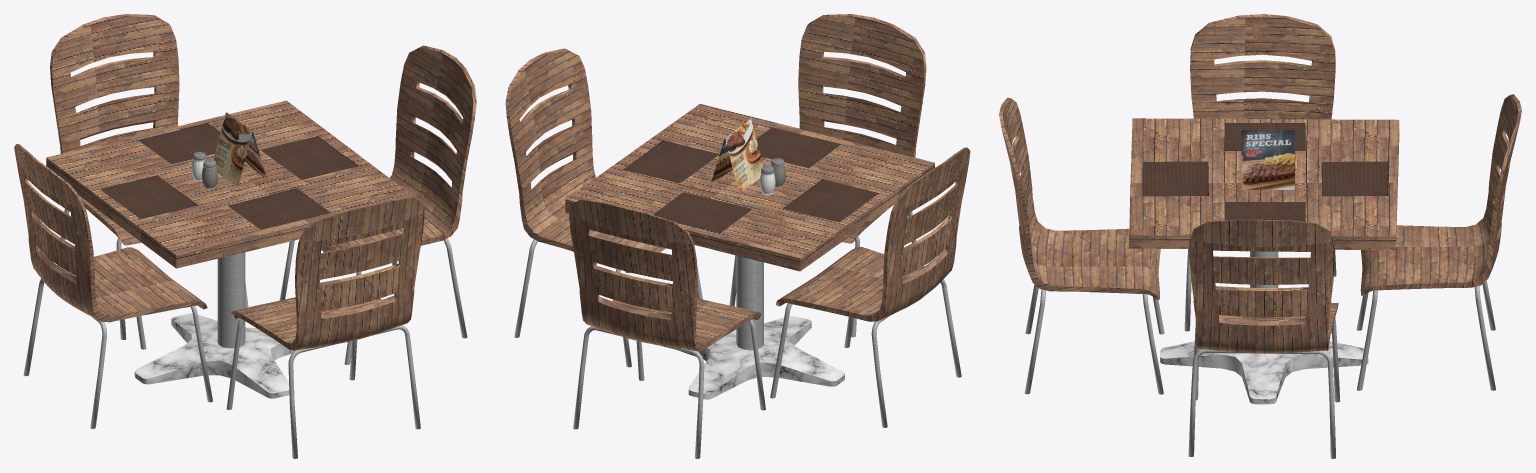
Rendered from 1744782709727-terrace_shop_table.glb.
3 renders of one model, left to right at view 1: azimuth 30°, elevation 25°; view 2: azimuth 150°, elevation 25°; view 3: azimuth 270°, elevation 25°, orthographic.
Parts seen in each view (by area): view 1: TerraceShop_Object004, TerraceShop_Object005, TerraceShop_Object007, TerraceShop_Object006, TerraceShop_Object003, Plane005, Plane003, Plane006, Plane004, Plane002, Plane001; view 2: TerraceShop_Object004, TerraceShop_Object006, TerraceShop_Object007, TerraceShop_Object005, TerraceShop_Object003, Plane003, Plane006, Plane004, Plane005, Plane002; view 3: TerraceShop_Object004, TerraceShop_Object003, TerraceShop_Object007, TerraceShop_Object005, TerraceShop_Object006, Plane001, Plane004, Plane005, Plane003, Plane006.
Part boxes in pixels (x1,y1,x2,y2): TerraceShop_Object004: [46, 100, 416, 398]; TerraceShop_Object005: [226, 197, 424, 458]; TerraceShop_Object007: [14, 144, 212, 428]; TerraceShop_Object006: [50, 14, 248, 339]; TerraceShop_Object003: [279, 45, 476, 364]; Plane005: [228, 188, 330, 229]; Plane003: [261, 136, 358, 179]; Plane006: [100, 175, 197, 218]; Plane004: [138, 123, 220, 164]; Plane002: [213, 112, 252, 186]; Plane001: [244, 132, 267, 179]; TerraceShop_Object004: [565, 103, 934, 399]; TerraceShop_Object006: [569, 199, 765, 458]; TerraceShop_Object007: [770, 147, 970, 427]; TerraceShop_Object005: [729, 14, 926, 337]; TerraceShop_Object003: [505, 48, 702, 367]; Plane003: [623, 140, 719, 183]; Plane006: [783, 179, 878, 222]; Plane004: [653, 192, 752, 232]; Plane005: [756, 127, 841, 167]; Plane002: [725, 119, 763, 192]; TerraceShop_Object004: [1129, 118, 1399, 404]; TerraceShop_Object003: [1188, 219, 1339, 458]; TerraceShop_Object007: [1184, 14, 1336, 332]; TerraceShop_Object005: [999, 97, 1164, 394]; TerraceShop_Object006: [1356, 94, 1521, 390]; Plane001: [1241, 130, 1294, 189]; Plane004: [1321, 161, 1388, 196]; Plane005: [1142, 161, 1208, 196]; Plane003: [1224, 202, 1305, 221]; Plane006: [1224, 123, 1305, 150].
Bounding box in the file's own units: 1162 × 653 × 1244.
11 materials, 8 textured.
